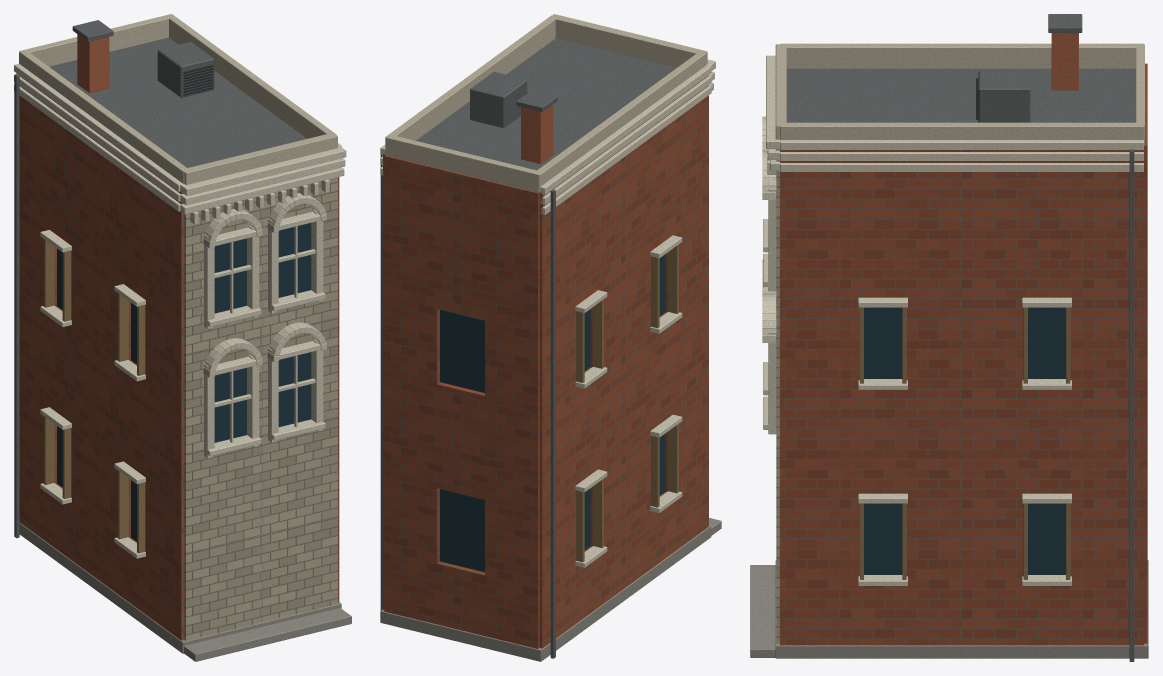
File: WRHS4_lod1.glb
The picture shows the model from 3 angles, left to right: view 1: azimuth 30°, elevation 25°; view 2: azimuth 150°, elevation 25°; view 3: azimuth 270°, elevation 25°; orthographic projection. The views are drawn at different scales.
Parts seen in each view (by area): view 1: WRHS4_LOD1; view 2: WRHS4_LOD1; view 3: WRHS4_LOD1.
Boxes of the visible parts, box(x1,y1,x2,y2) form: WRHS4_LOD1: box(14, 14, 351, 661); WRHS4_LOD1: box(380, 14, 721, 661); WRHS4_LOD1: box(750, 14, 1148, 661).
Size of the model in its own units: 3.71 by 10.45 by 6.57.
11 materials, 9 textured.
